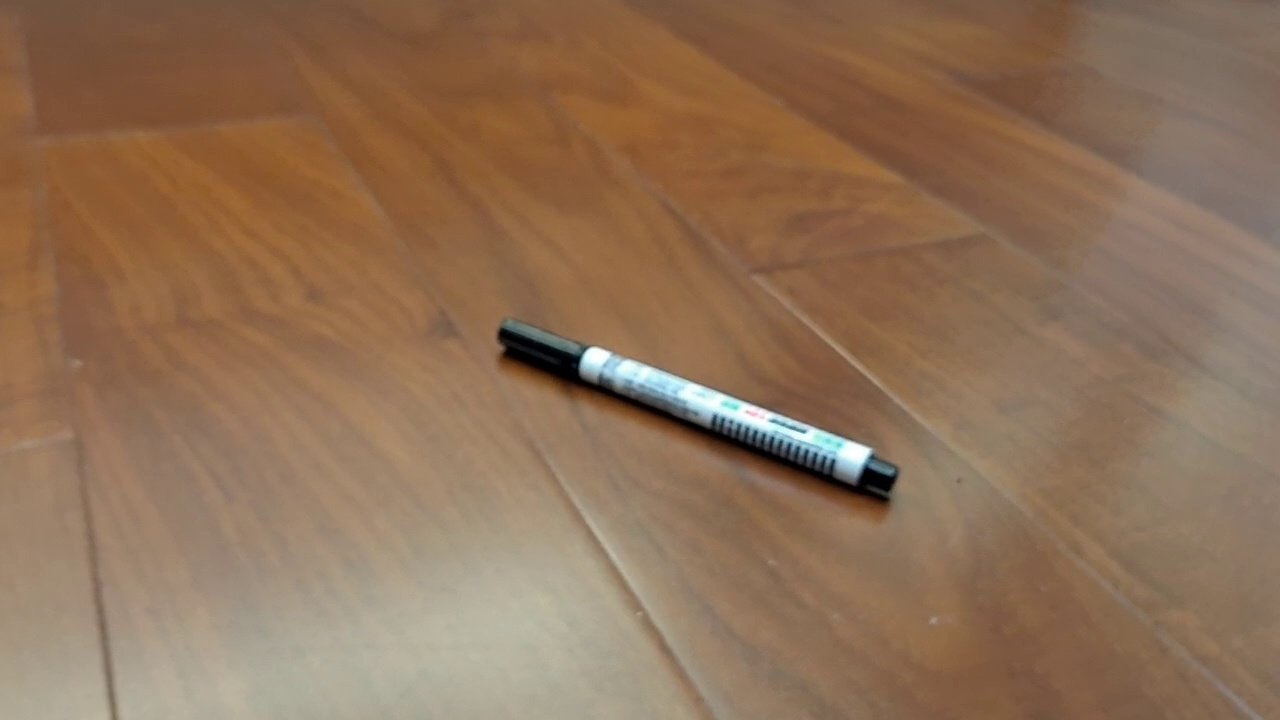pen: (496, 315, 901, 494)
